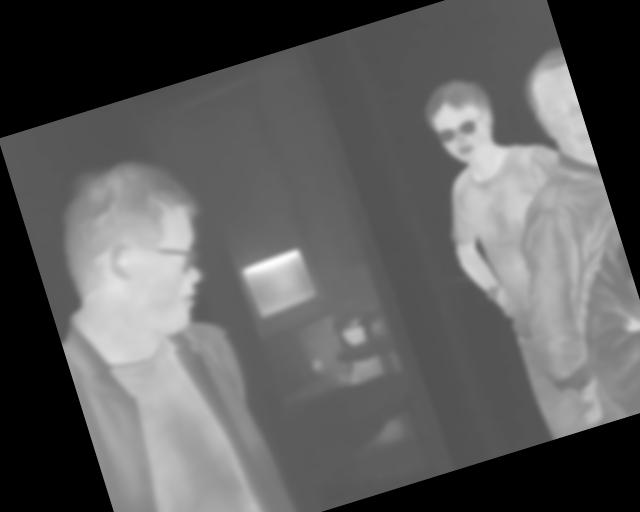face: (418, 71, 504, 170)
